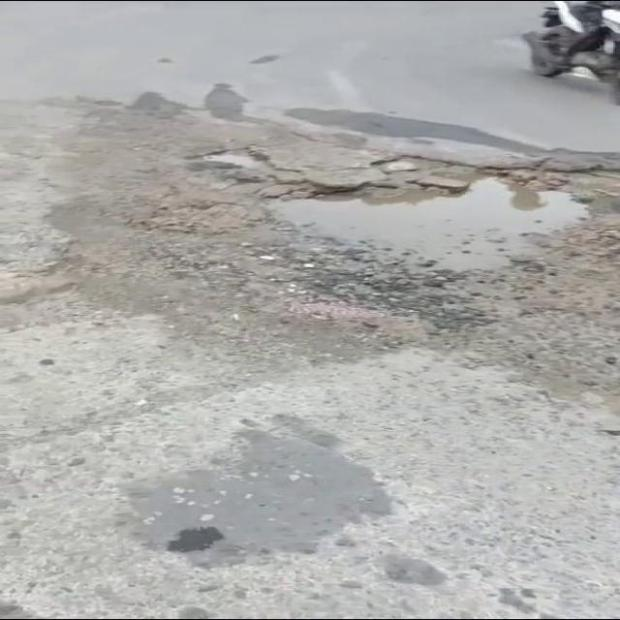lubang: (192, 136, 619, 271)
